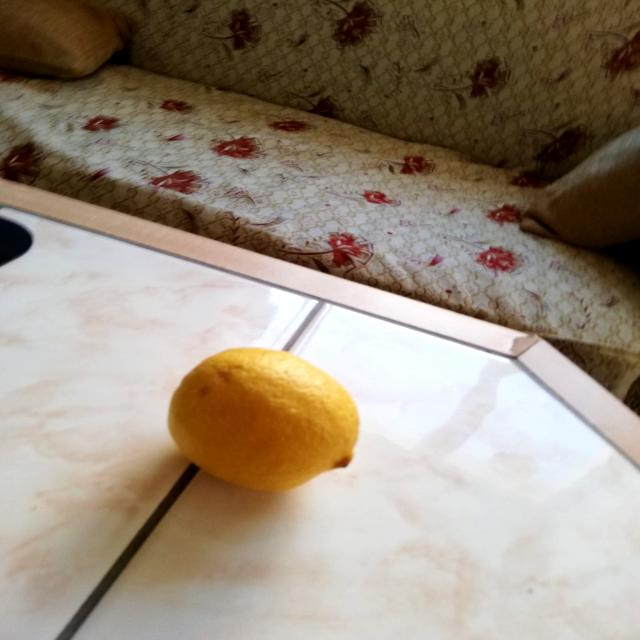lemon: (157, 341, 368, 497)
